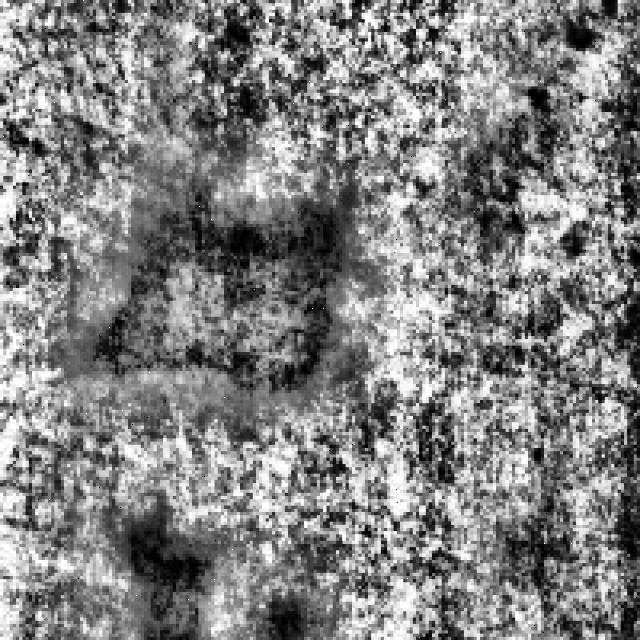Scratches: (83, 166, 364, 397), (112, 499, 230, 637)
